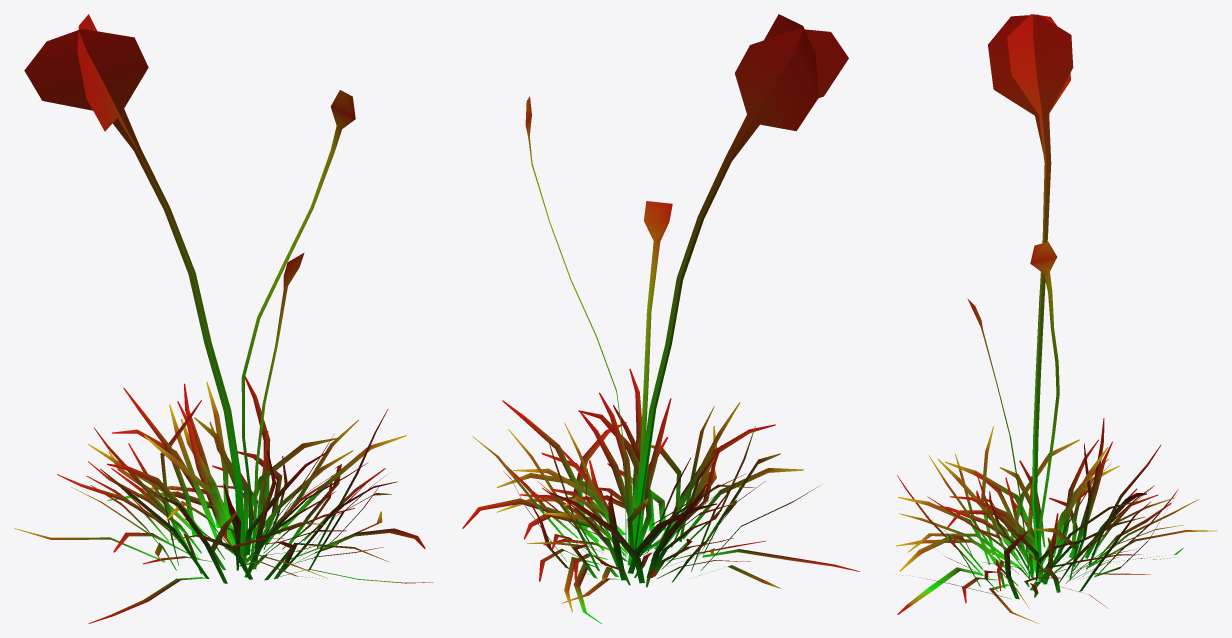
The model's file is Var7_LOD2.fbx.
3 views of the same model, side by side, from view 1: azimuth 30°, elevation 25°; view 2: azimuth 150°, elevation 25°; view 3: azimuth 270°, elevation 25° (orthographic). The views are drawn at different scales.
Visible parts, largest first — view 1: _2to0_Var7_LOD2; view 2: _2to0_Var7_LOD2; view 3: _2to0_Var7_LOD2.
Part boxes in pixels (x1=…): _2to0_Var7_LOD2: x1=14, y1=14, x2=433, y2=623; _2to0_Var7_LOD2: x1=462, y1=14, x2=859, y2=623; _2to0_Var7_LOD2: x1=896, y1=14, x2=1216, y2=623.
Size of the model in its own units: 10.79 by 16.34 by 9.77.
